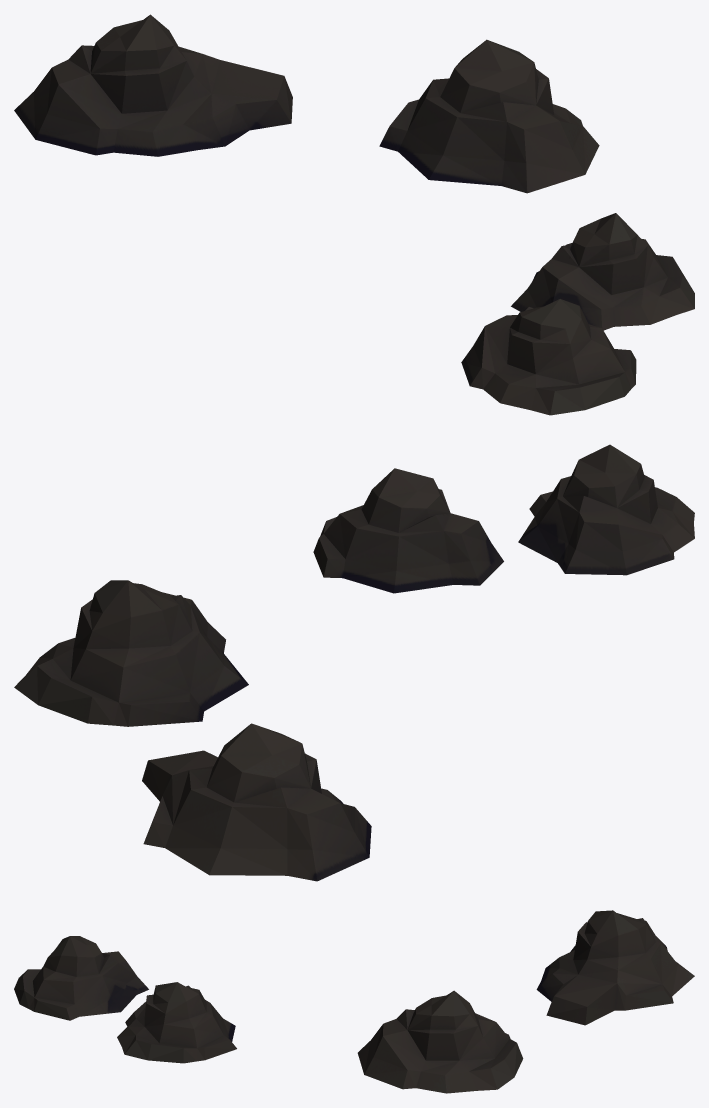
File: Ground_06.FBX
3 views of the same model, one above another, from view 1: azimuth 30°, elevation 25°; view 2: azimuth 150°, elevation 25°; view 3: azimuth 270°, elevation 25° (orthographic). The views are drawn at different scales.
Visible parts, largest first — view 1: Ground_06; view 2: Ground_06; view 3: Ground_06.
Boxes of the visible parts, x1,y1,x2,y2 form: Ground_06: [14, 14, 694, 415]; Ground_06: [14, 444, 694, 881]; Ground_06: [14, 910, 694, 1093].
Size of the model in its own units: 31.41 by 6.9 by 59.57.
